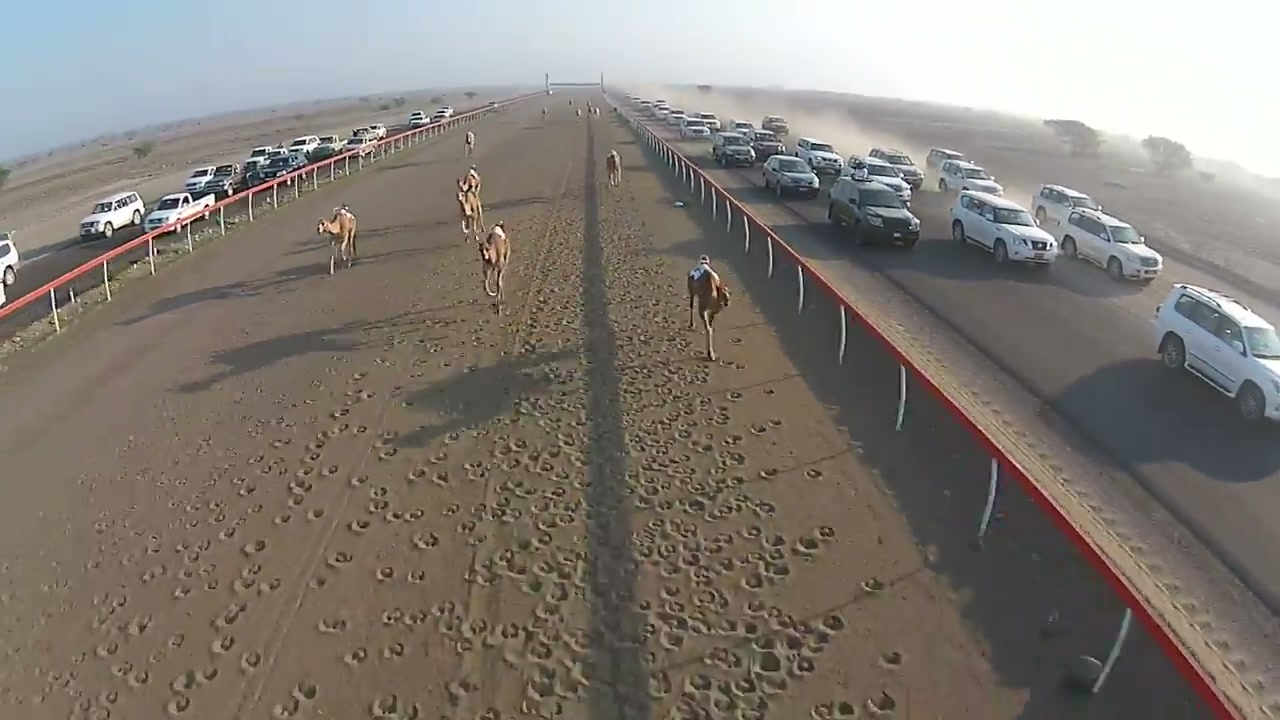animal_footprint: (0, 158, 966, 719), (0, 262, 584, 716), (587, 193, 1004, 717), (260, 261, 591, 716), (10, 384, 377, 716)
